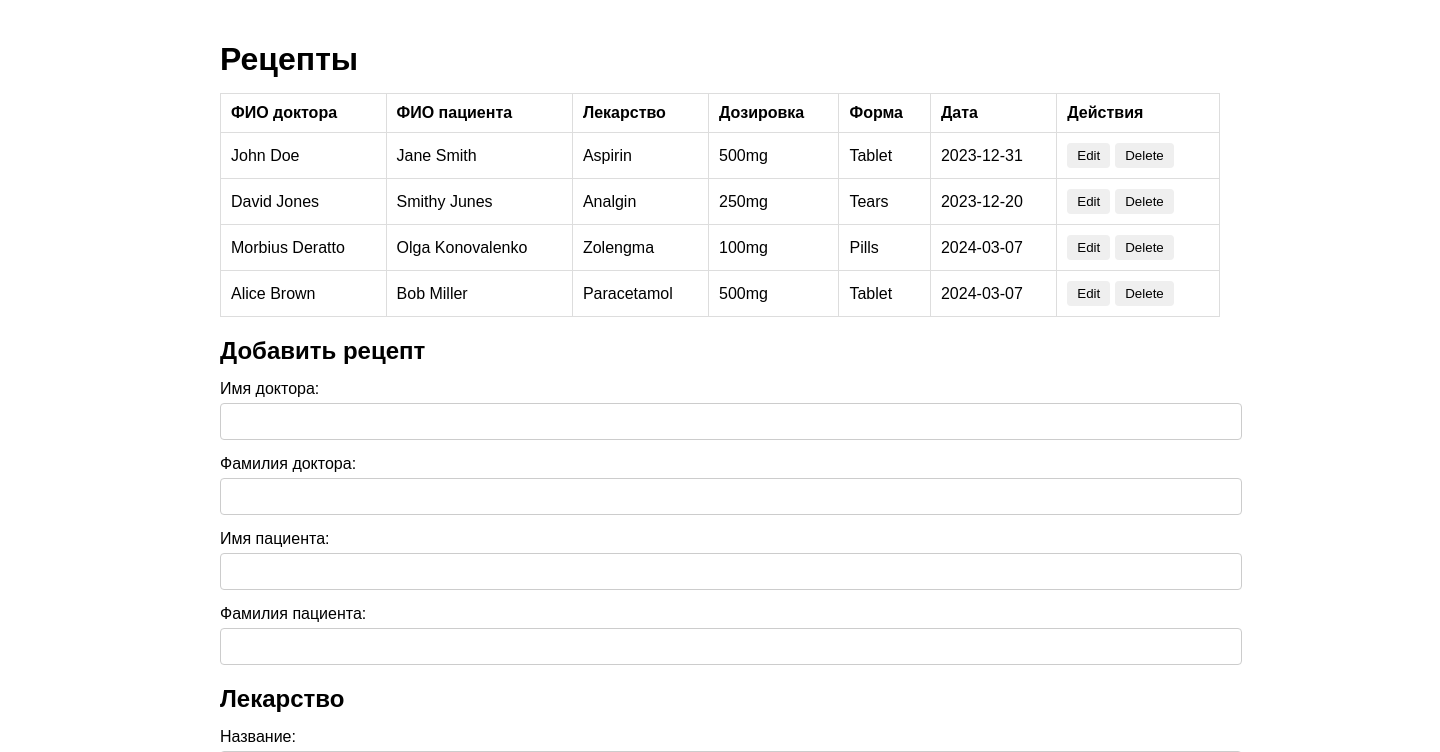
Scenario: deletes a prescription and removes it from the table
The image size is (1440, 752).
// Click the delete button
Click the button "Delete" in the row of "David Jones" at point(1144, 202), box [1115,189,1174,214]
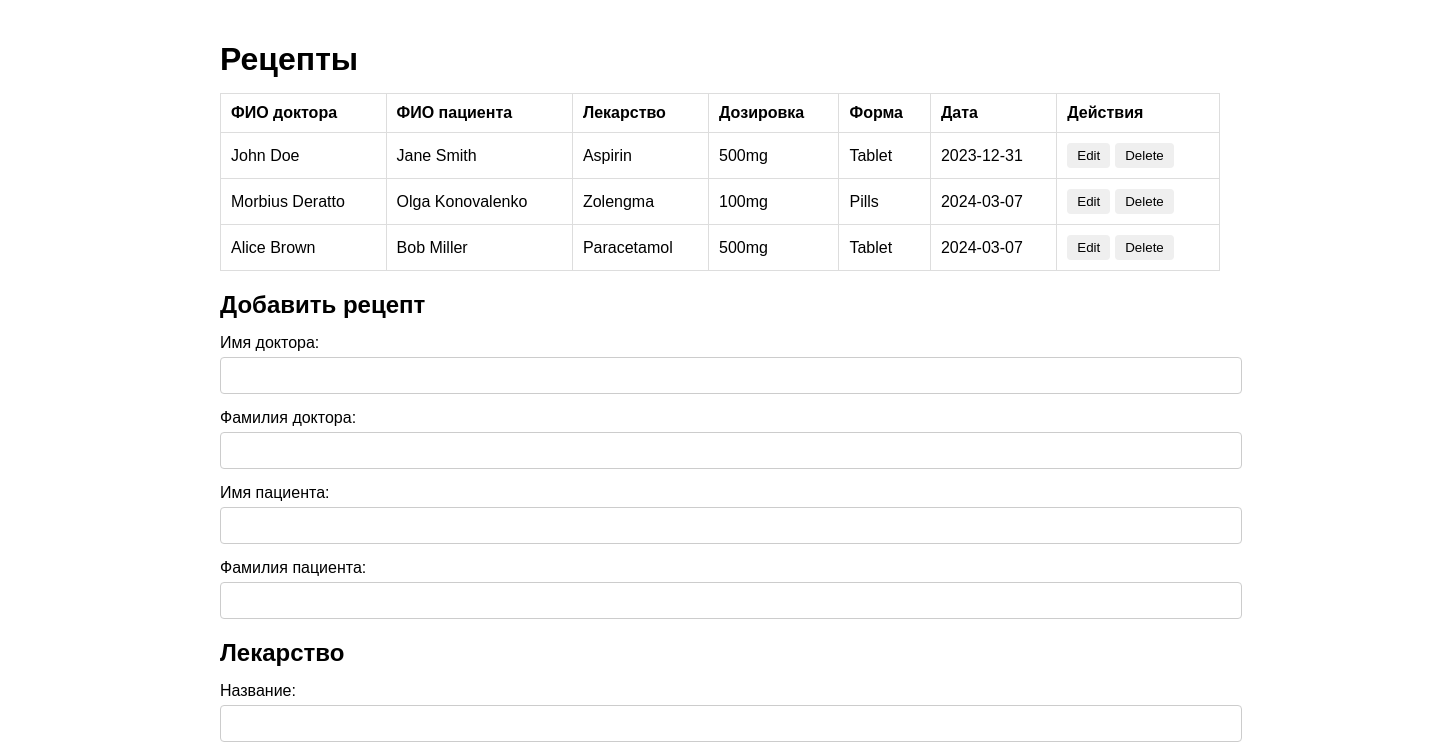
Expected: the text "David Jones" is gone
Expected: the text "Smithy Junes" is gone
Expected: the number of buttons "Delete" is 3, [1115,143,1174,168]; [1115,189,1174,214]; [1115,235,1174,260]
